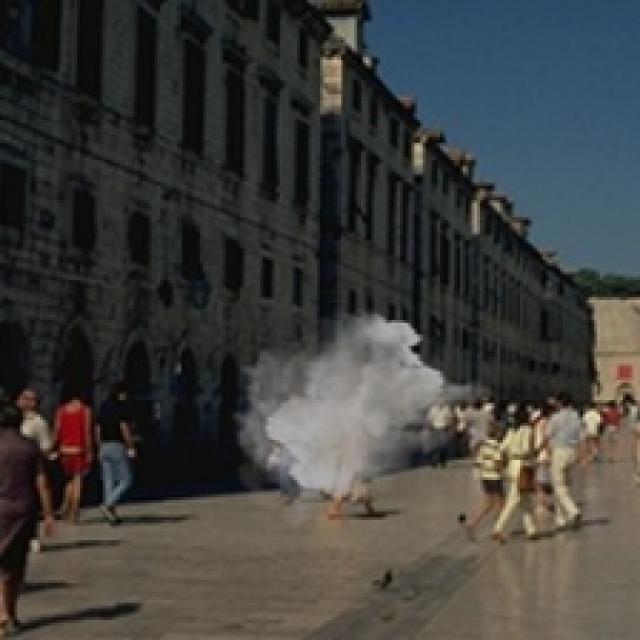smoke: (229, 308, 497, 528)
